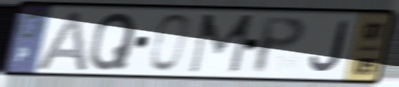0: (146, 11, 195, 75)
A: (31, 8, 90, 73)
J: (308, 19, 351, 74)
M: (185, 12, 256, 76)
P: (251, 14, 309, 76)
Q: (86, 11, 139, 73)
